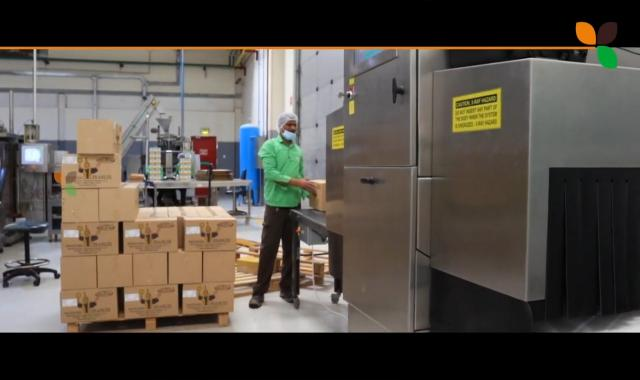hairnet: (278, 108, 298, 136)
